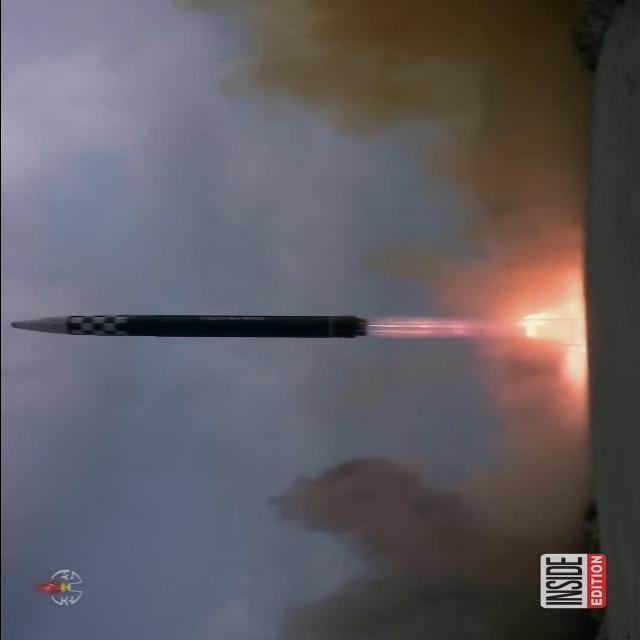Missile: (0, 308, 381, 344)
